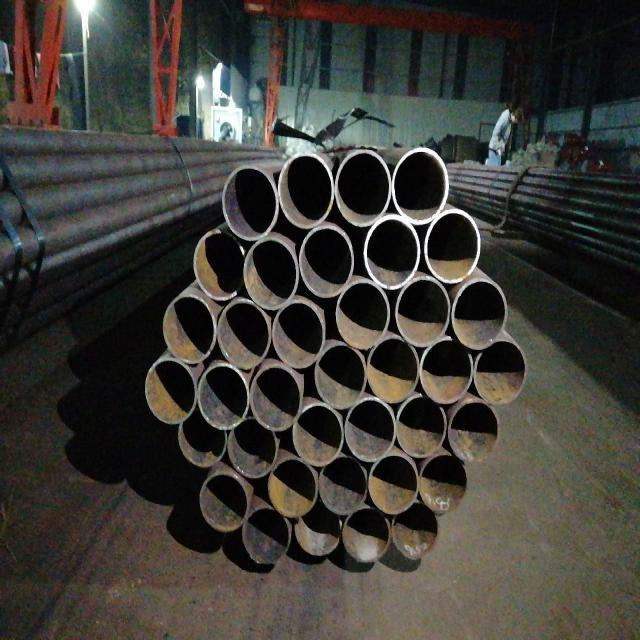pipe: (390, 144, 448, 225), (220, 164, 278, 240), (334, 147, 390, 225), (363, 213, 419, 290), (423, 208, 479, 282), (278, 152, 332, 228), (394, 274, 450, 346), (242, 238, 298, 310), (451, 277, 506, 349), (298, 225, 352, 298), (334, 278, 390, 348), (193, 362, 250, 430), (161, 294, 216, 364), (192, 228, 245, 300), (271, 300, 325, 370), (472, 339, 530, 404), (418, 335, 473, 403), (216, 300, 270, 369), (142, 356, 196, 424), (366, 335, 420, 402), (249, 363, 302, 431), (446, 399, 499, 464), (395, 392, 447, 458), (344, 396, 396, 462), (314, 344, 366, 408), (291, 402, 343, 466), (196, 471, 249, 532), (366, 453, 419, 514), (317, 454, 368, 516), (390, 499, 440, 562), (293, 494, 342, 558), (176, 406, 228, 466), (226, 417, 278, 477), (266, 456, 318, 516), (417, 453, 469, 512), (240, 506, 290, 564), (342, 504, 390, 564)
